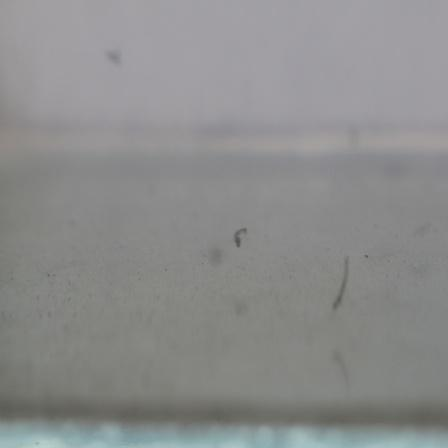Jentik-Nyamuk: (229, 222, 252, 252)
